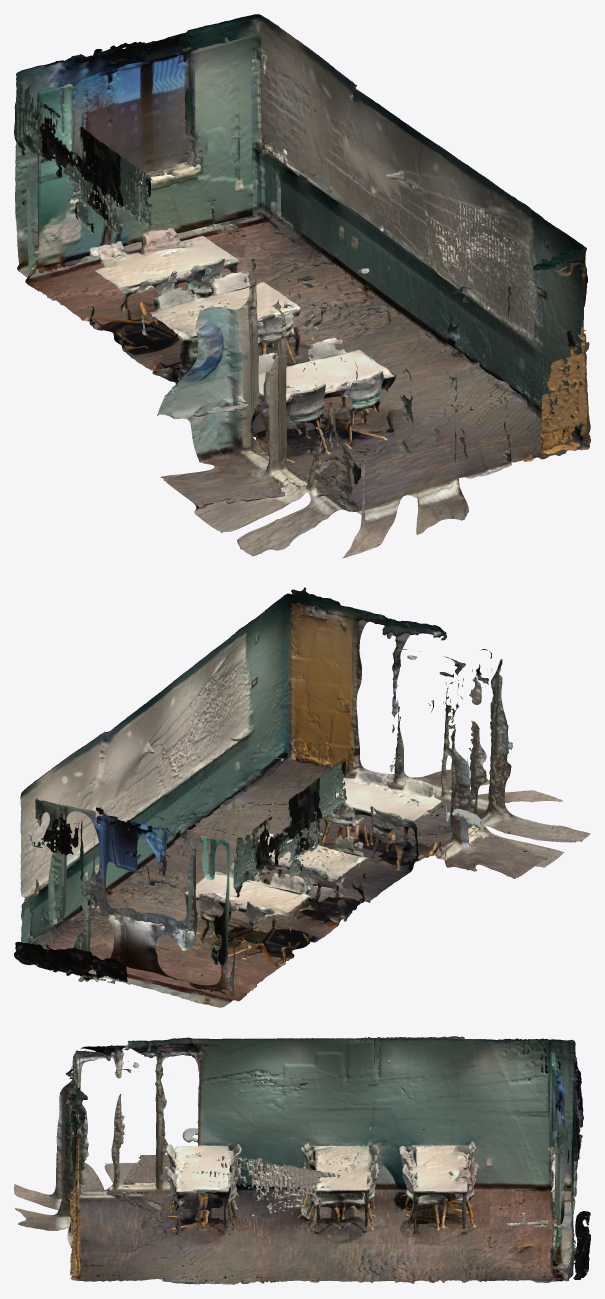
The model's file is room.glb.
3 views of the same model, one above another, from view 1: azimuth 30°, elevation 25°; view 2: azimuth 150°, elevation 25°; view 3: azimuth 270°, elevation 25° (orthographic). The views are drawn at different scales.
Bounding box in the file's own units: 4.64 × 2.75 × 8.38.
2 materials, 2 textured.
